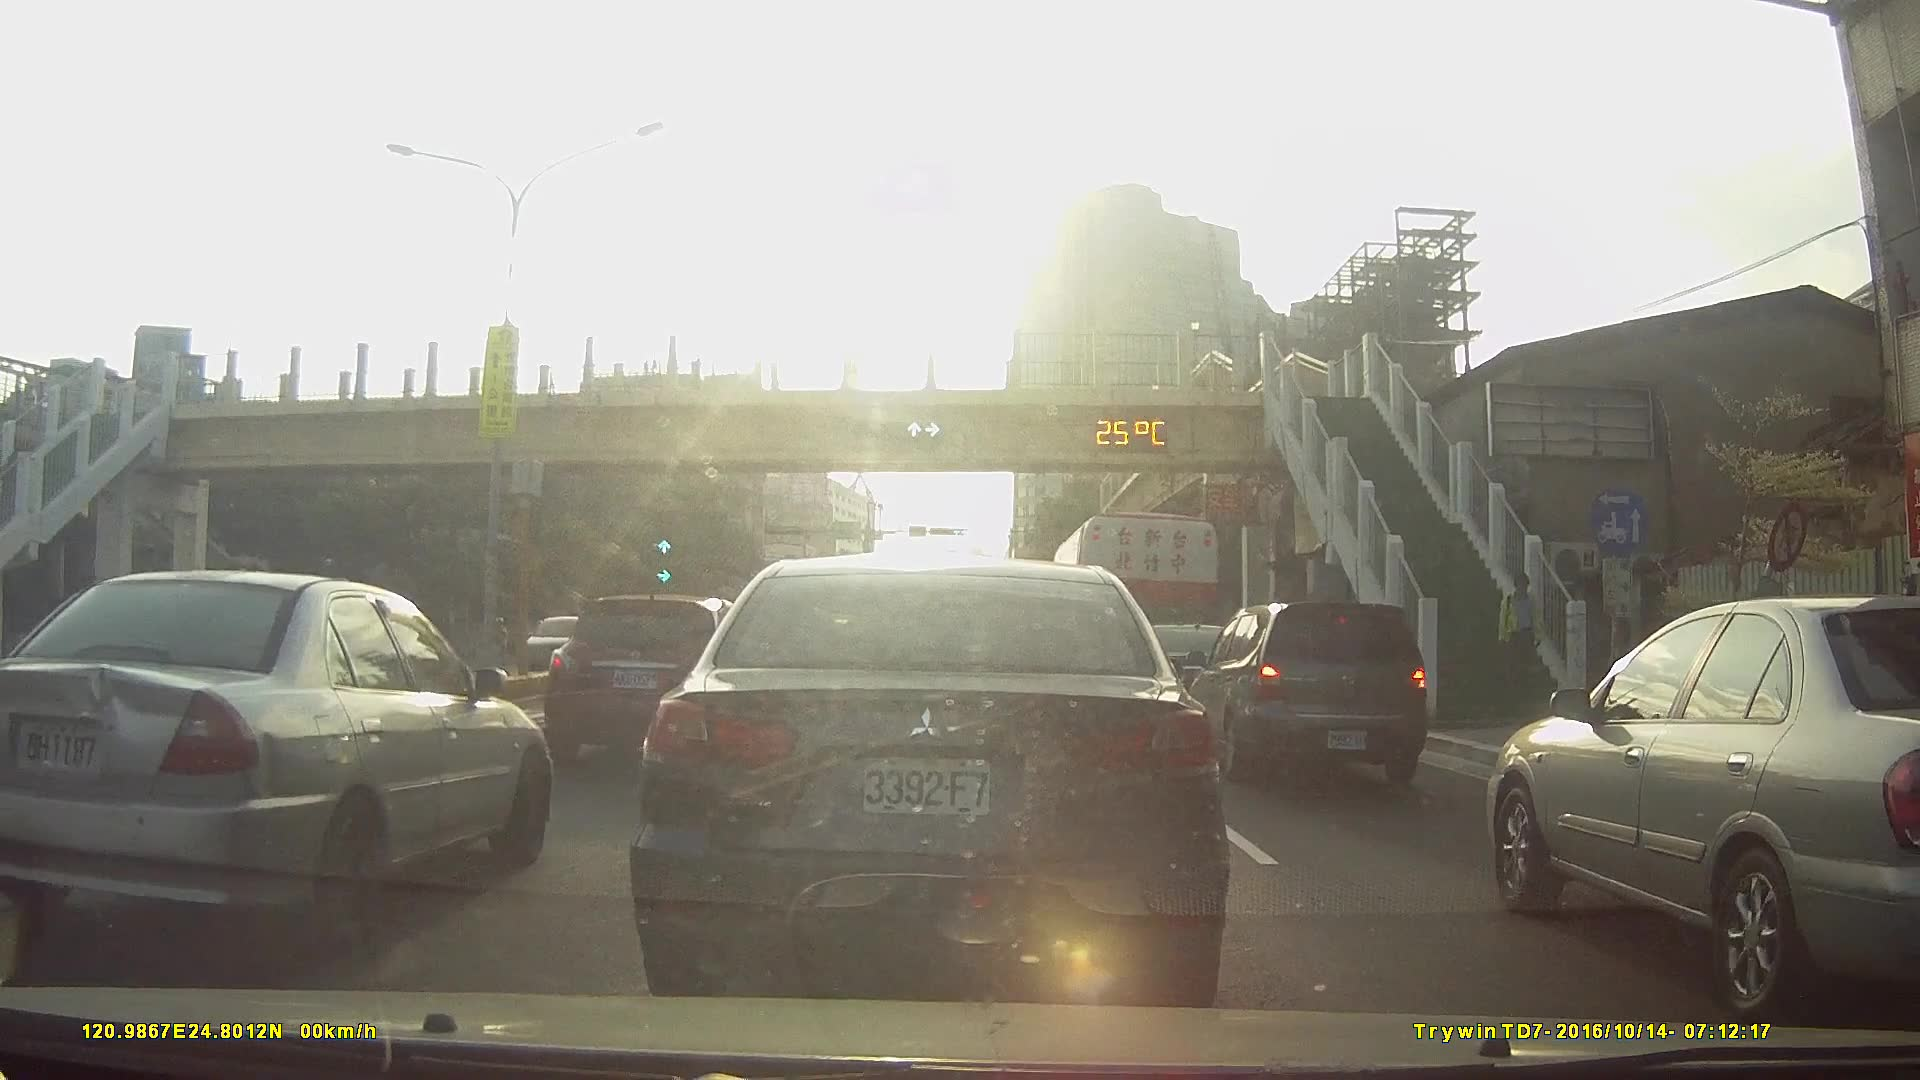pedestrian: (1495, 579, 1544, 702)
vehicle: (636, 555, 1224, 1008), (0, 570, 563, 936), (1475, 593, 1920, 1012), (1183, 600, 1440, 784), (550, 593, 768, 768), (1105, 615, 1261, 723), (520, 612, 615, 671)
